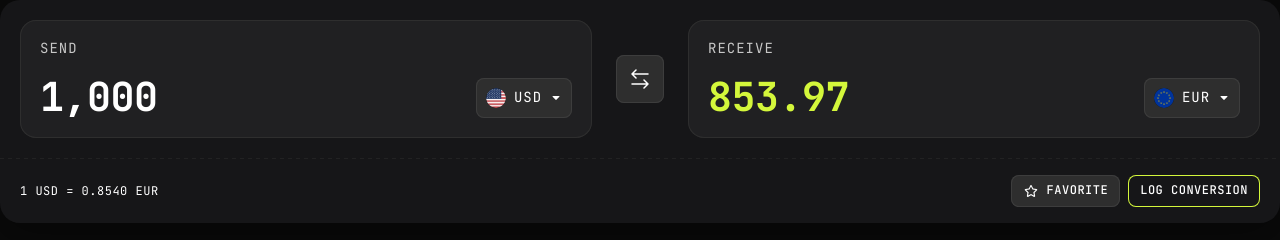
Test case: Converter › swaps the active currencies and navigates without resetting scroll
Click the button named "Exchange currencies" at [640, 79], box [616,55,664,103]
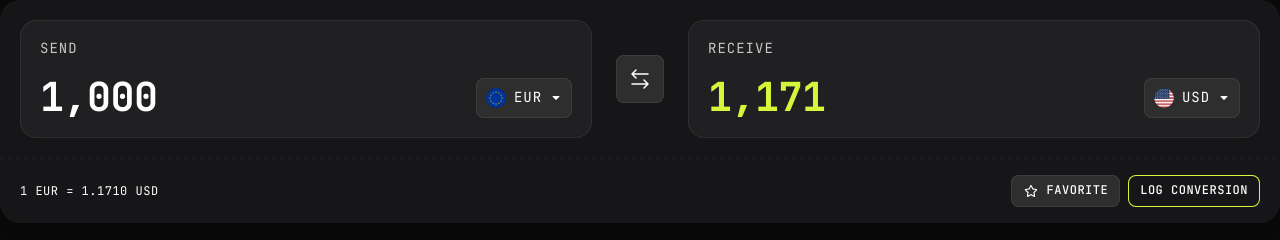
Now the button "EUR" is shown, box [476,78,572,118]
Now the button "USD" is shown, box [1144,78,1240,118]
Now the text "1 EUR = 1.1710 USD" is shown, box [20,184,159,198]
